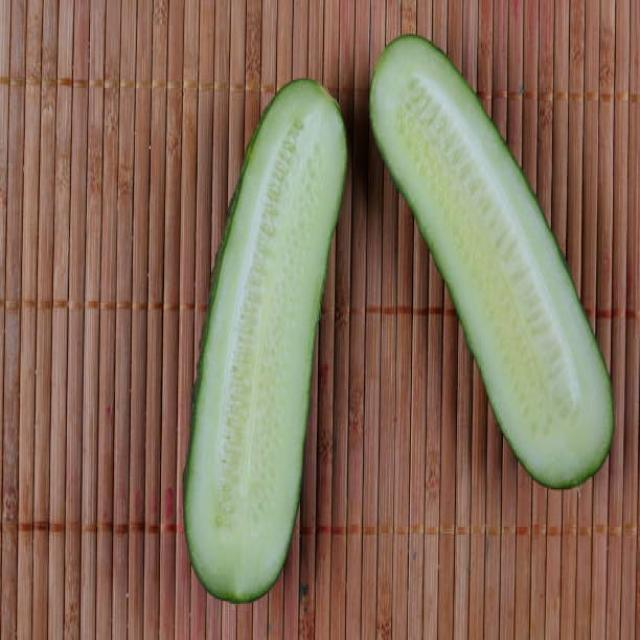cucumber: (368, 33, 616, 488), (182, 76, 348, 603)
